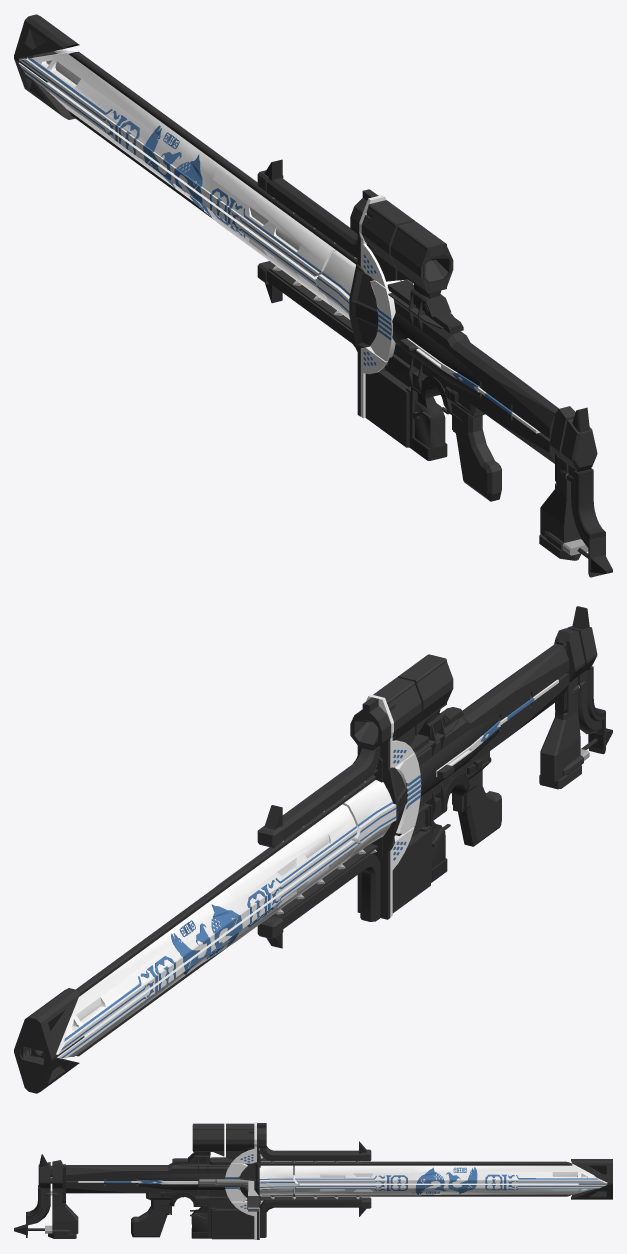
Rendered from izanagi.glb.
3 renders of one model, top to bottom at view 1: azimuth 30°, elevation 25°; view 2: azimuth 150°, elevation 25°; view 3: azimuth 270°, elevation 25°, orthographic. The views are drawn at different scales.
Size of the model in its own units: 0.1398 by 0.3268 by 1.58.
